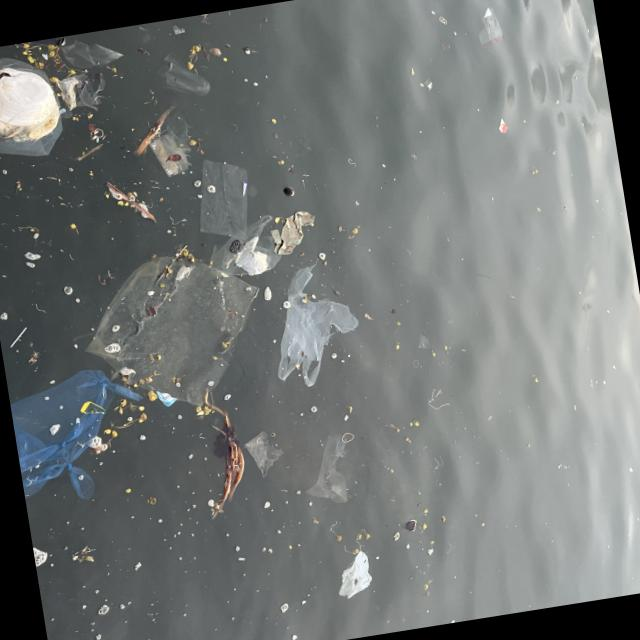foam: (1, 61, 58, 135)
plastic bag: (8, 360, 141, 522), (278, 256, 354, 390)
